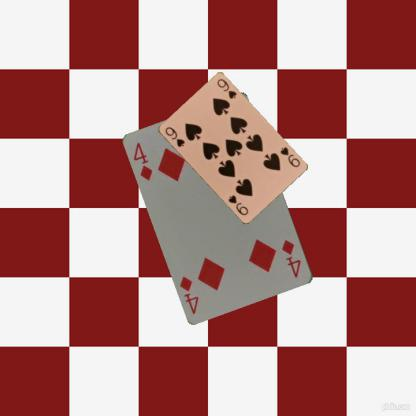4d: (279, 237, 303, 279), (131, 140, 154, 182)
9s: (162, 124, 186, 149), (277, 144, 301, 169)
